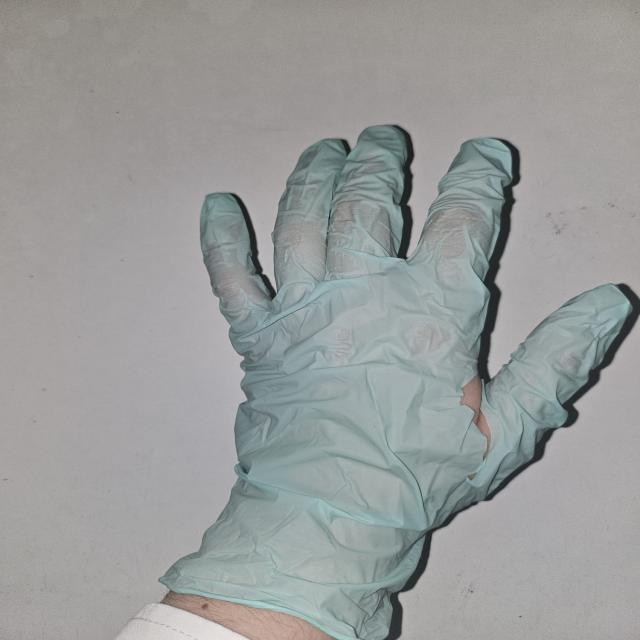gloves_damaged: (160, 120, 640, 639)
